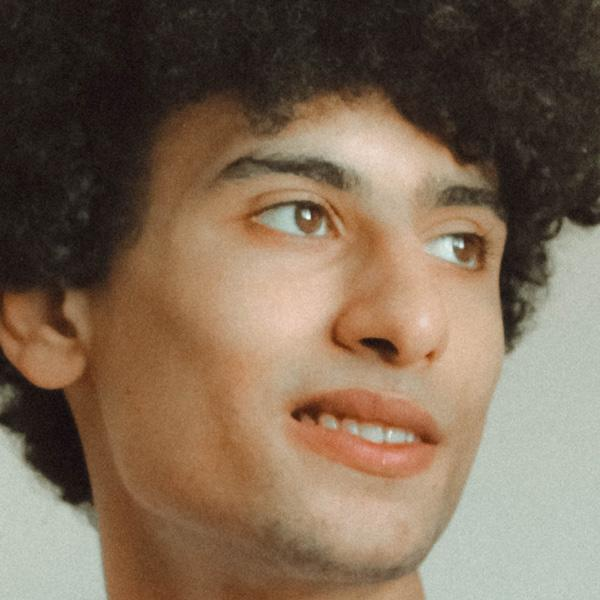Eyes: (232, 179, 347, 250), (412, 213, 501, 284)
